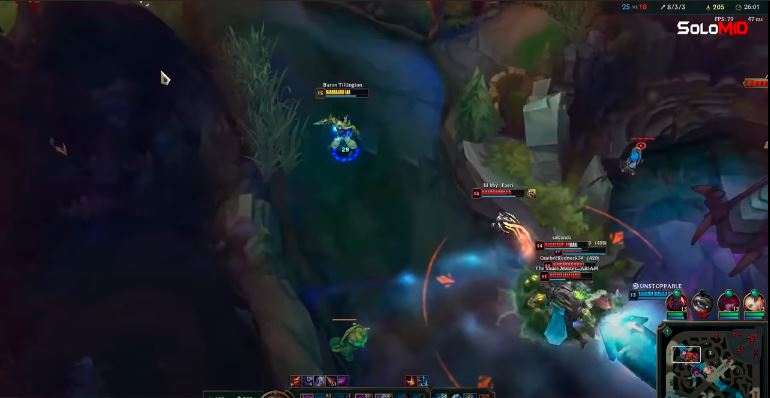bar: (545, 241, 609, 259), (628, 289, 690, 302), (538, 271, 595, 285), (314, 86, 375, 99), (470, 186, 529, 199), (542, 259, 602, 270), (534, 240, 587, 252)
